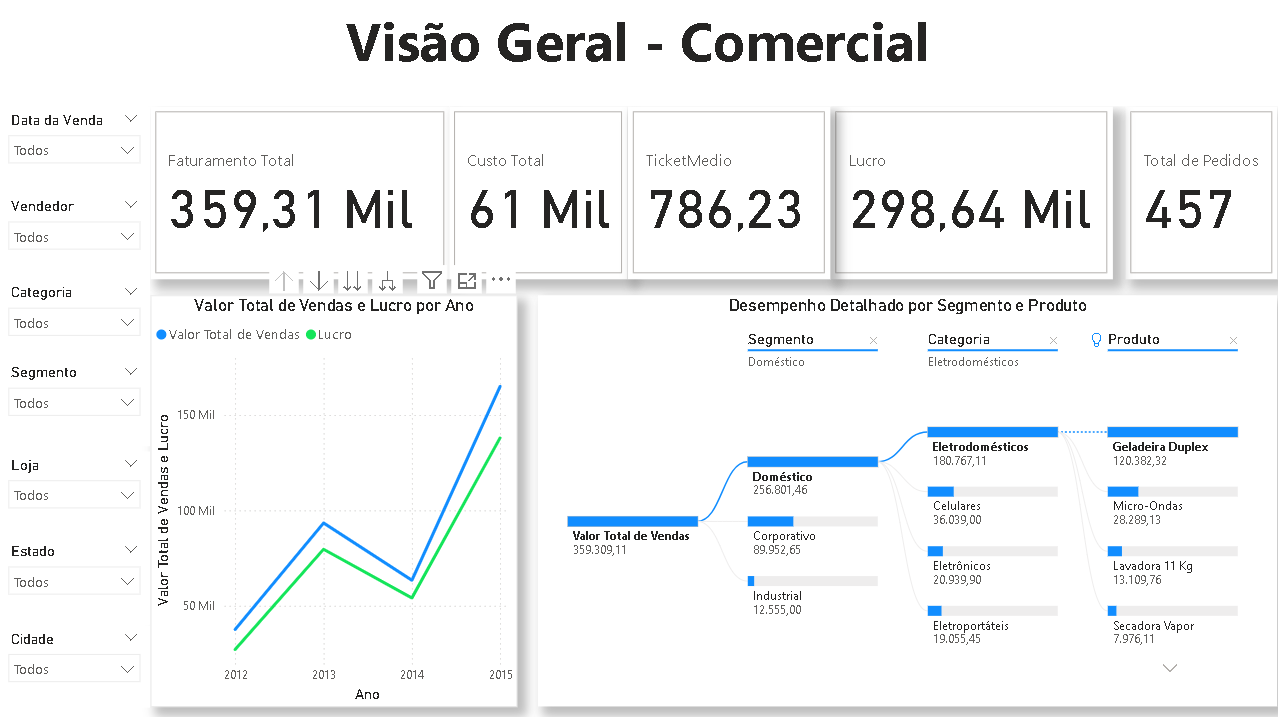

The dashboard page shown, as its layout file describes it:
{"tool":"powerbi","page":{"name":"KPIs e Tendências de Vendas","canvas":[1280,720],"ordinal":0},"visuals":[{"type":"cardVisual","fields":{"Data":["Sum(Vendas.ValorVenda)"]},"box":[152,107.4,299.2,172.5],"z":0},{"type":"cardVisual","fields":{"Data":["CountNonNull(Vendas.ID-Produto)"]},"box":[1128,107.4,152,172.5],"z":1000},{"type":"cardVisual","fields":{"Data":["Sum(Vendas.Custo)"]},"box":[451.2,107.4,178.6,172.5],"z":2000},{"type":"cardVisual","fields":{"Data":["Vendas.Lucro"]},"box":[832.4,107.4,282.3,172.5],"z":3000},{"type":"cardVisual","fields":{"Data":["Vendas.TicketMedio"]},"box":[629.8,107.4,202.7,172.5],"z":4000},{"type":"lineChart","fields":{"Category":["Vendas.Data Venda.Variation.Hierarquia de datas.Ano","Vendas.Data Venda.Variation.Hierarquia de datas.Mês"],"Y":["Sum(Vendas.ValorVenda)","Vendas.Lucro"]},"box":[152,296.8,366.8,411.4],"z":5000},{"type":"decompositionTreeVisual","title":"Desempenho Detalhado por Segmento e Produto","fields":{"ExplainBy":["Vendas.Segmento","Vendas.Categoria","Vendas.Produto"],"Analyze":["Sum(Vendas.ValorVenda)"]},"box":[540.5,296.8,739.5,411.4],"z":6000},{"type":"slicer","title":"Data Vendas","fields":{"Values":["Vendas.Data Venda","Vendas.Data Venda.Variation.Hierarquia de datas.Ano","Vendas.Data Venda.Variation.Hierarquia de datas.Mês"]},"box":[0,107.4,152,87],"z":7000},{"type":"slicer","fields":{"Values":["Vendas.Vendedor"]},"box":[0,194.2,152,87],"z":8000},{"type":"slicer","fields":{"Values":["Vendas.Categoria"]},"box":[0,279.9,152,87],"z":9000},{"type":"slicer","fields":{"Values":["Vendas.Segmento"]},"box":[0,359.5,152,87],"z":10000},{"type":"slicer","fields":{"Values":["Vendas.Loja"]},"box":[0,452.4,152,86.9],"z":11000},{"type":"slicer","fields":{"Values":["Vendas.Estado"]},"box":[0,539.3,152,86.9],"z":12000},{"type":"slicer","fields":{"Values":["Vendas.Cidade"]},"box":[0,626.1,152,82],"z":13000},{"type":"textbox","box":[0,0,1280,107.4],"z":14000}]}

Visuals, with their boxes in screenshot pixels (x1, y1, x2, y2), scaled from the page's 1280x720 canvas onto the 1278x717 screenshot:
cardVisual - Sum(Vendas.ValorVenda): 152/107/450/279
cardVisual - CountNonNull(Vendas.ID-Produto): 1126/107/1277/279
cardVisual - Sum(Vendas.Custo): 450/107/629/279
cardVisual - Vendas.Lucro: 831/107/1113/279
cardVisual - Vendas.TicketMedio: 629/107/831/279
lineChart - Vendas.Data Venda.Variation.Hierarquia de datas.Ano x Vendas.Data Venda.Variation.Hierarquia de datas.Mês: 152/296/518/705
"Desempenho Detalhado por Segmento e Produto" decompositionTreeVisual: 540/296/1277/705
"Data Vendas" slicer: 0/107/152/194
slicer - Vendas.Vendedor: 0/193/152/280
slicer - Vendas.Categoria: 0/279/152/365
slicer - Vendas.Segmento: 0/358/152/445
slicer - Vendas.Loja: 0/451/152/537
slicer - Vendas.Estado: 0/537/152/624
slicer - Vendas.Cidade: 0/623/152/705
textbox: 0/0/1277/107
